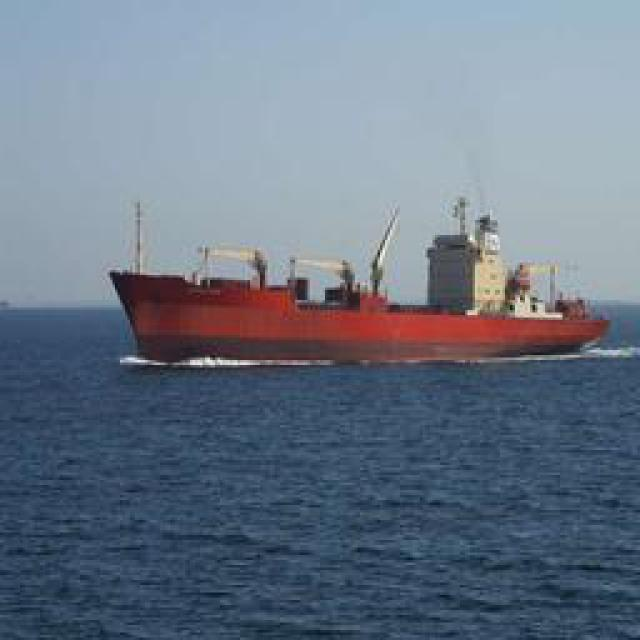Ship: (111, 200, 614, 365)
